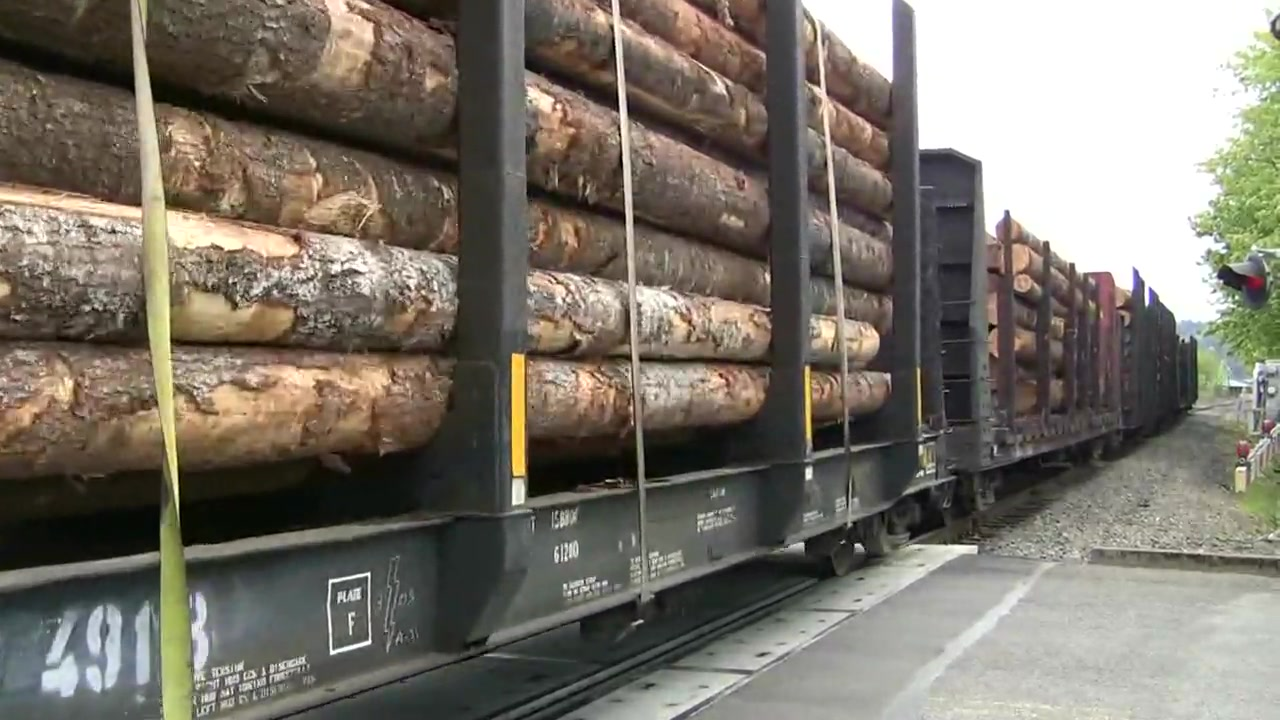train: (1, 1, 1199, 720)
